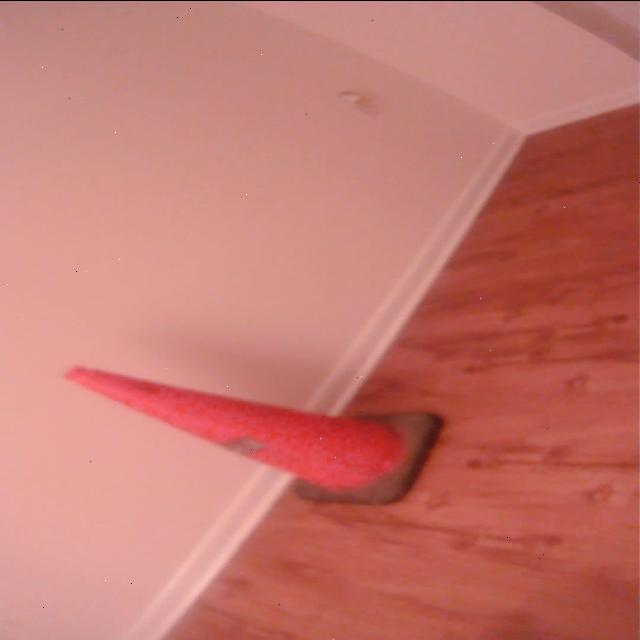traffic cone: (57, 362, 450, 511)
